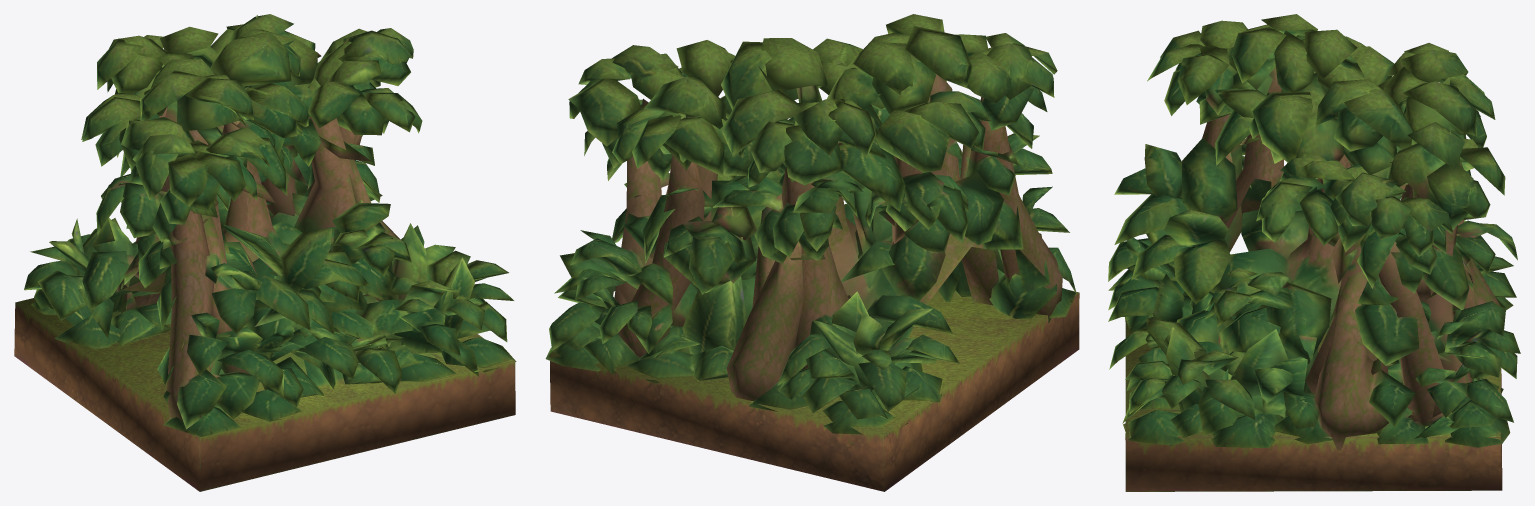
The model's file is Meshy_AI_Verdant_Jungle_Cube_1025140322_texture.glb.
The picture shows the model from 3 angles, left to right: view 1: azimuth 30°, elevation 25°; view 2: azimuth 150°, elevation 25°; view 3: azimuth 270°, elevation 25°; orthographic projection. The views are drawn at different scales.
Bounding box in the file's own units: 4.3 × 4 × 4.3.
Materials: 1 (1 with a texture image).
